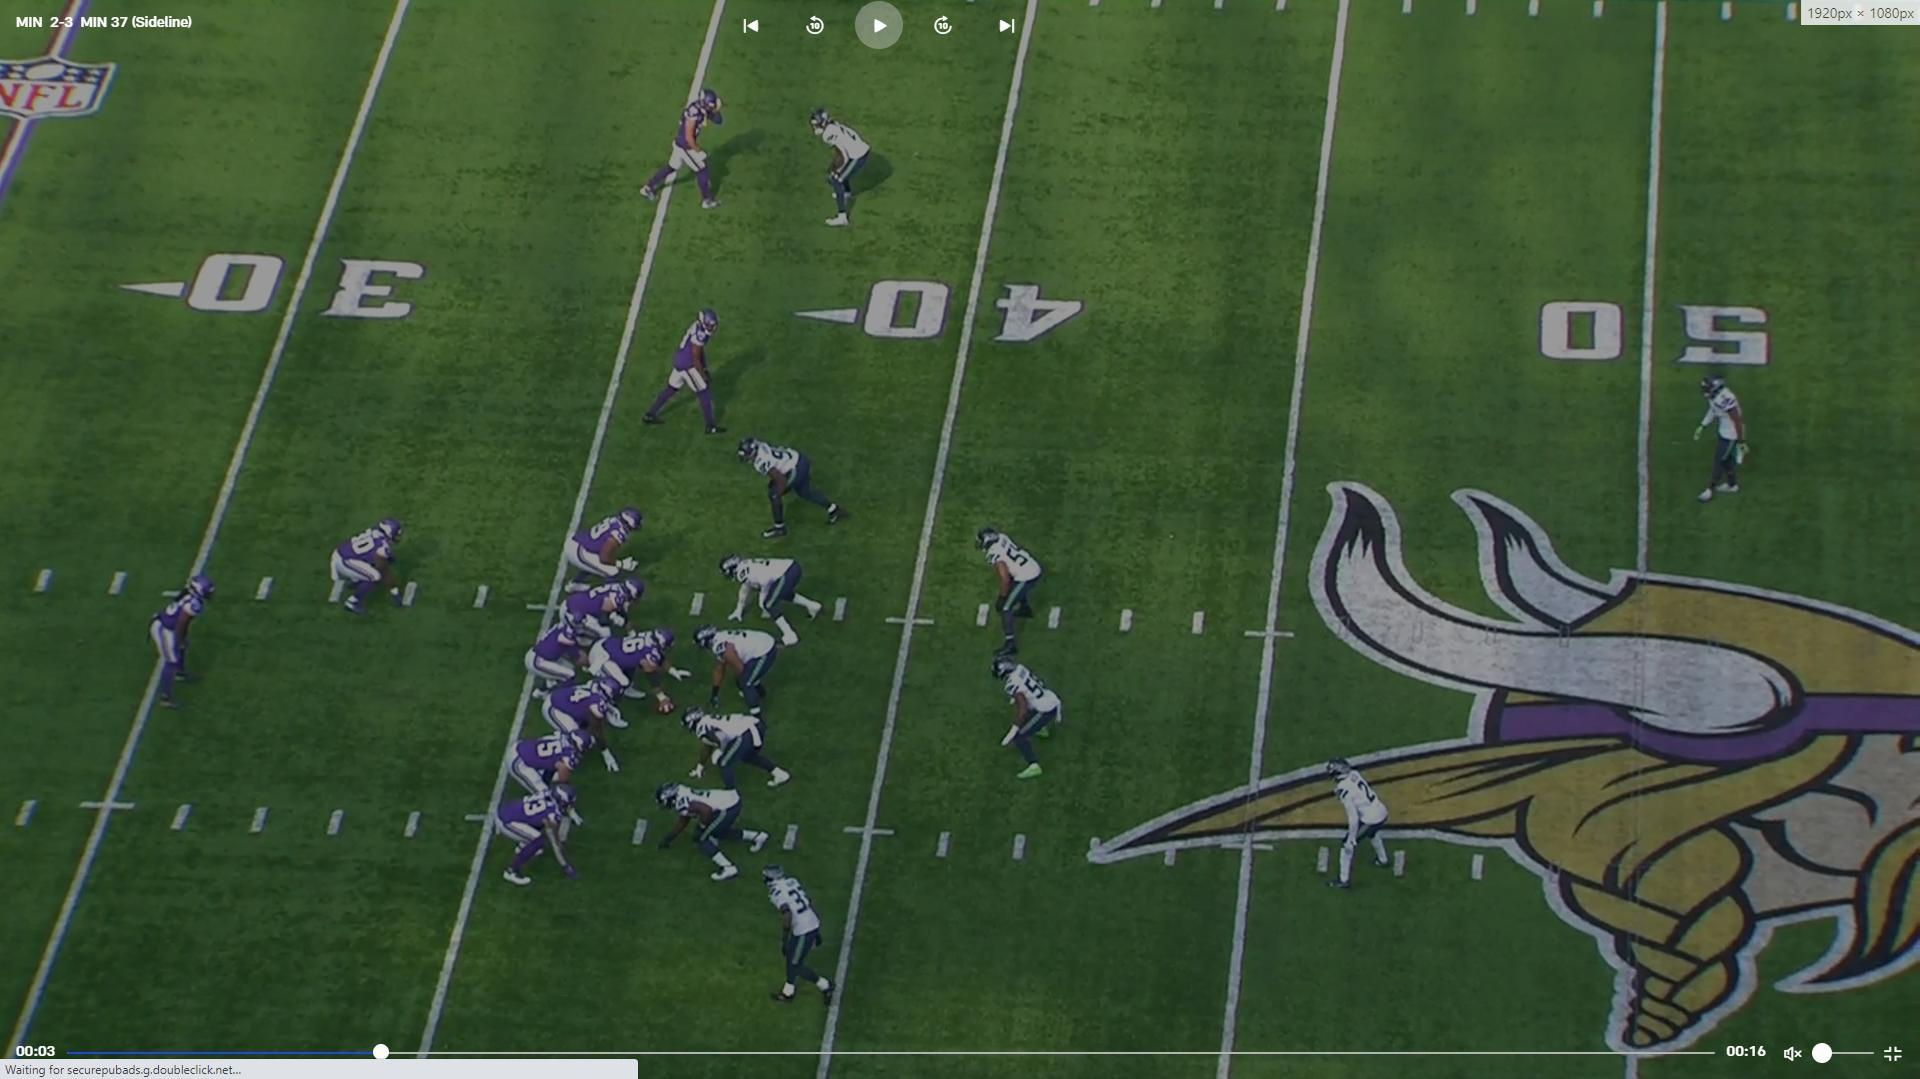defense: (742, 431, 857, 543), (650, 781, 769, 885), (712, 554, 824, 644), (765, 869, 837, 1006), (994, 654, 1068, 787), (1329, 760, 1402, 894), (686, 710, 795, 795), (978, 526, 1050, 656), (1689, 371, 1751, 514), (810, 106, 876, 236), (690, 620, 774, 712)
oline: (593, 631, 686, 725), (539, 681, 622, 777), (560, 505, 645, 584), (504, 733, 585, 805), (567, 578, 654, 637)
qb: (527, 611, 597, 695)
skill: (633, 82, 731, 215), (636, 309, 728, 443), (150, 572, 224, 710), (487, 793, 584, 890), (335, 510, 415, 617)
